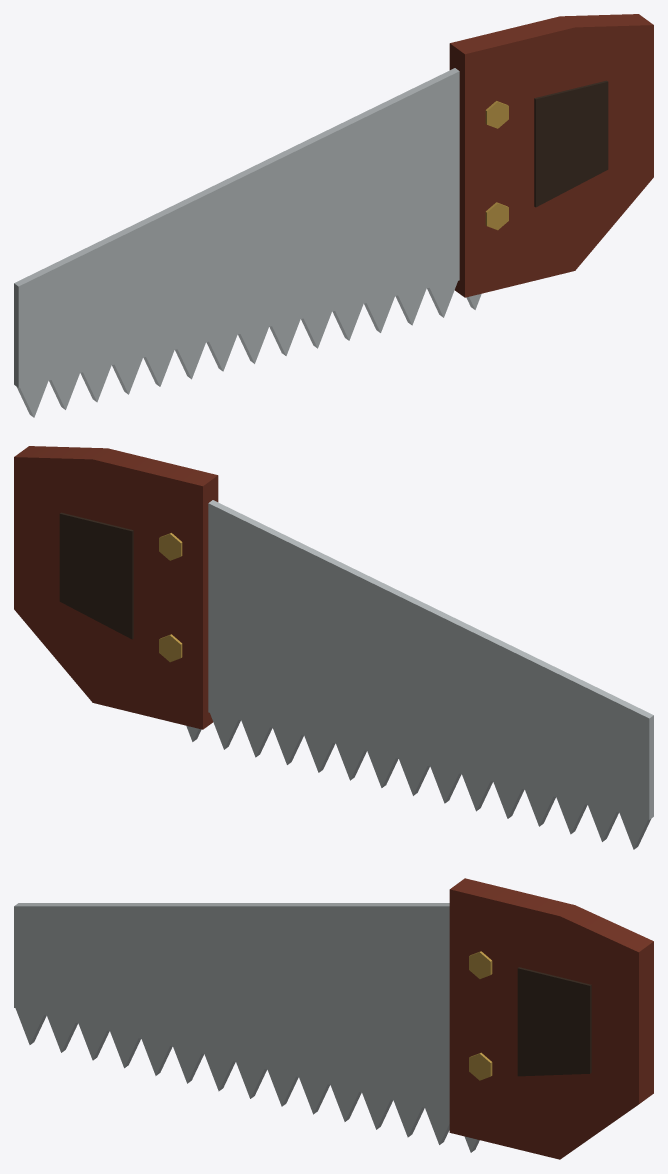
The model's file is 102_scie_egoine.fbx.
3 renders of one model, top to bottom at view 1: azimuth 30°, elevation 25°; view 2: azimuth 150°, elevation 25°; view 3: azimuth 330°, elevation 25°, orthographic.
Parts seen in each view (by area): view 1: Lame, Poignee; view 2: Lame, Poignee; view 3: Lame, Poignee.
Boxes of the visible parts, x1,y1,x2,y2 form: Lame: (14, 68, 481, 417); Poignee: (449, 14, 653, 297); Lame: (186, 500, 653, 849); Poignee: (14, 446, 218, 729); Lame: (14, 903, 479, 1152); Poignee: (449, 878, 653, 1159).
Size of the model in its own units: 0.56 by 0.224 by 0.028.
Materials: 1 (1 with a texture image).
